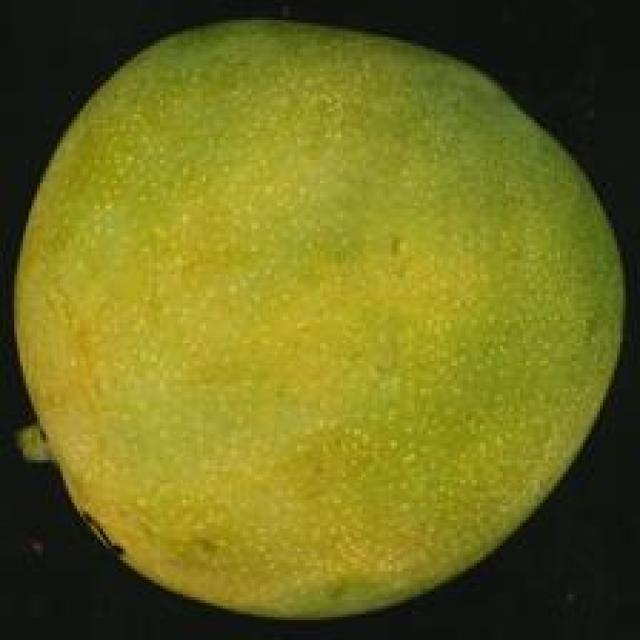Good_Mango: (11, 17, 626, 623)
